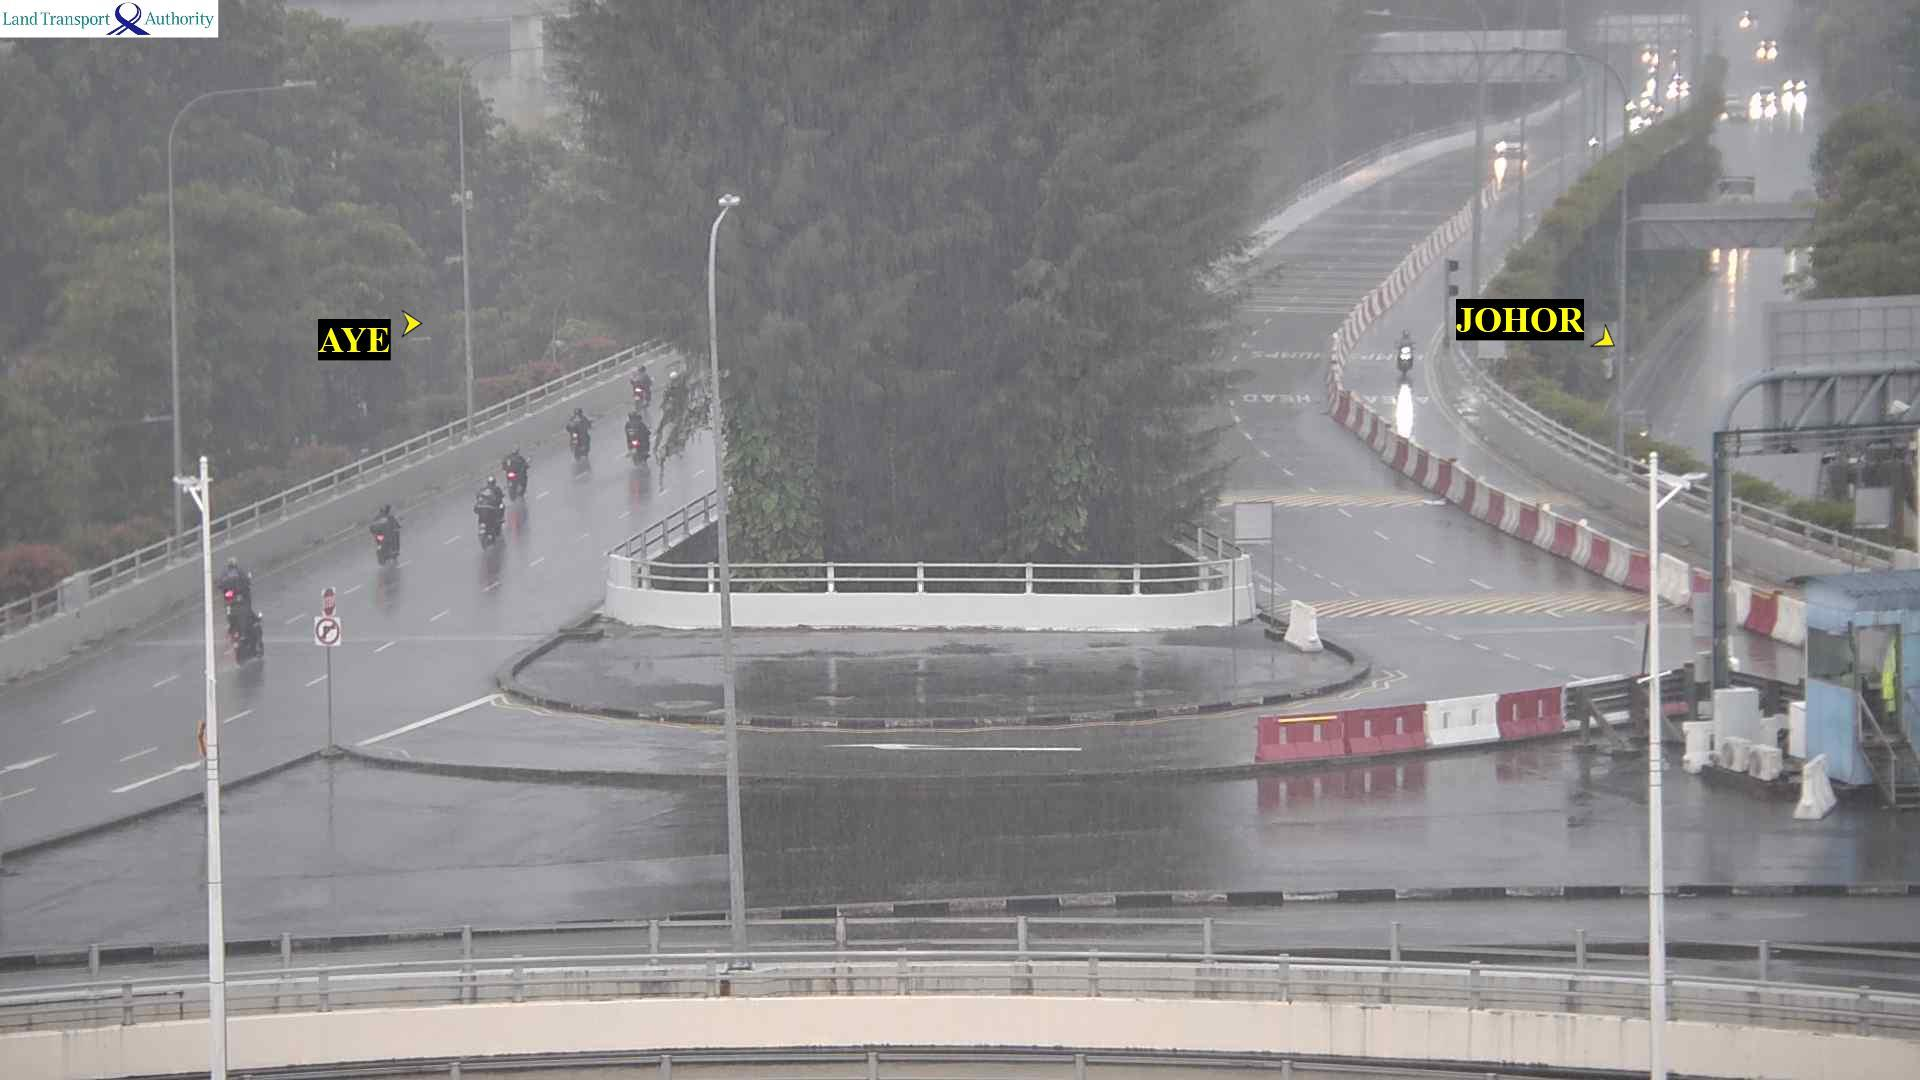vehicle-secondlink-johor: (1493, 133, 1528, 155), (1400, 328, 1412, 376)
vehicle-secondlink-singapore: (476, 477, 503, 544), (371, 506, 406, 557), (216, 563, 254, 609), (501, 452, 531, 497), (566, 406, 590, 459), (626, 410, 649, 464), (631, 364, 652, 402)
